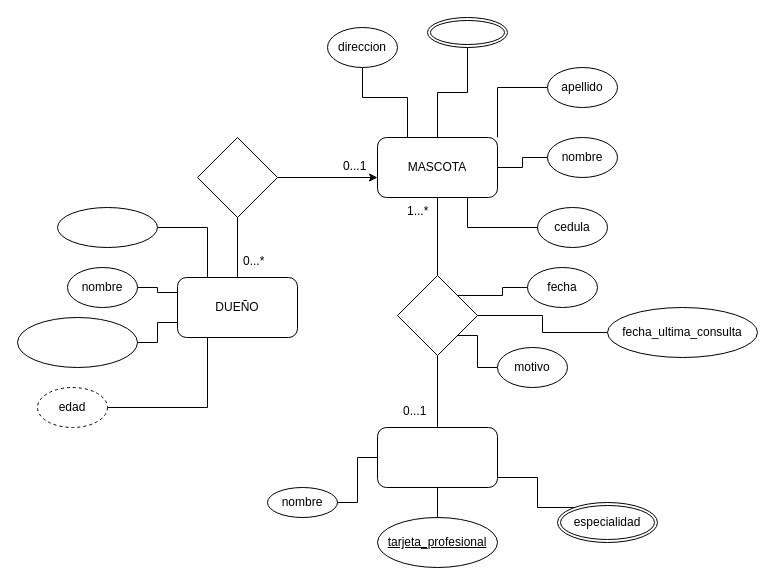
The diagram is 775 pixels wide and 585 high, and some of its shapes have lost their labels. Here are the shapes that lost their labels. From the top down, the centre of each, then its label:
At point 467,32: "telefono".
At point 237,177: "t ener".
At point 107,227: "id_mascota".
At point 437,315: "atender".
At point 77,342: "fecha_nacimiento".
At point 437,457: "VETERINARIO".
